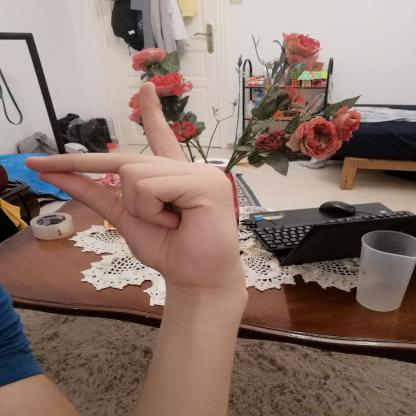TAA: (14, 73, 259, 292)
